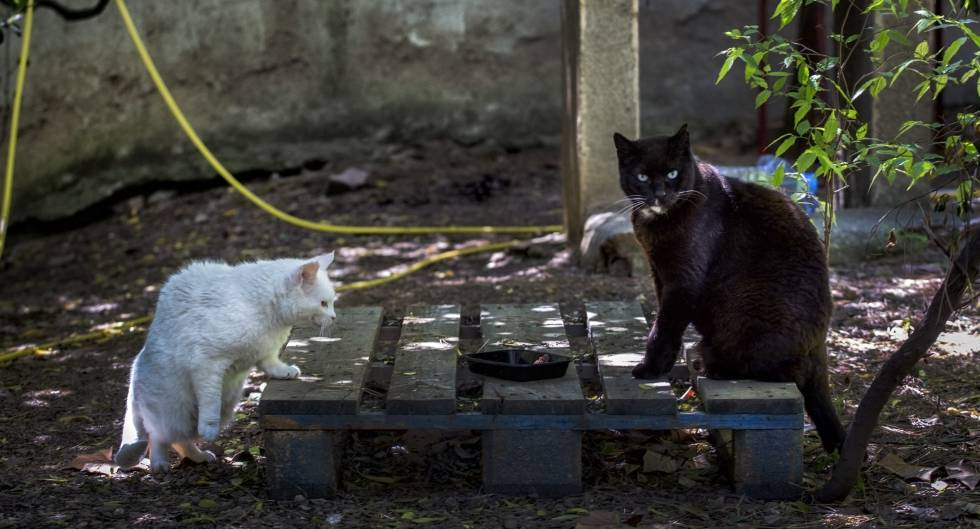cat: (601, 114, 881, 489), (77, 229, 352, 484)
